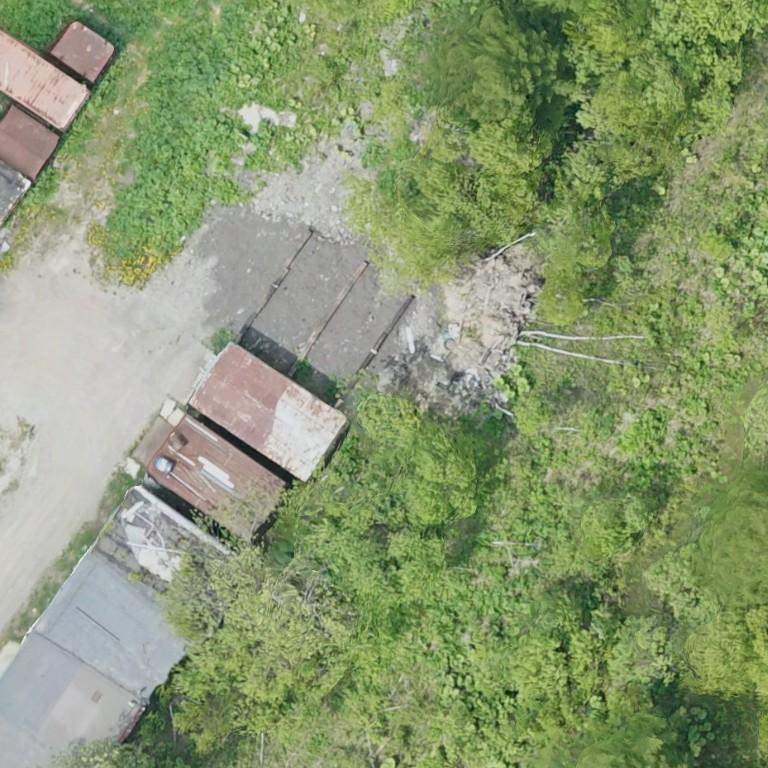hogweed: (108, 0, 251, 255), (0, 0, 85, 49)
